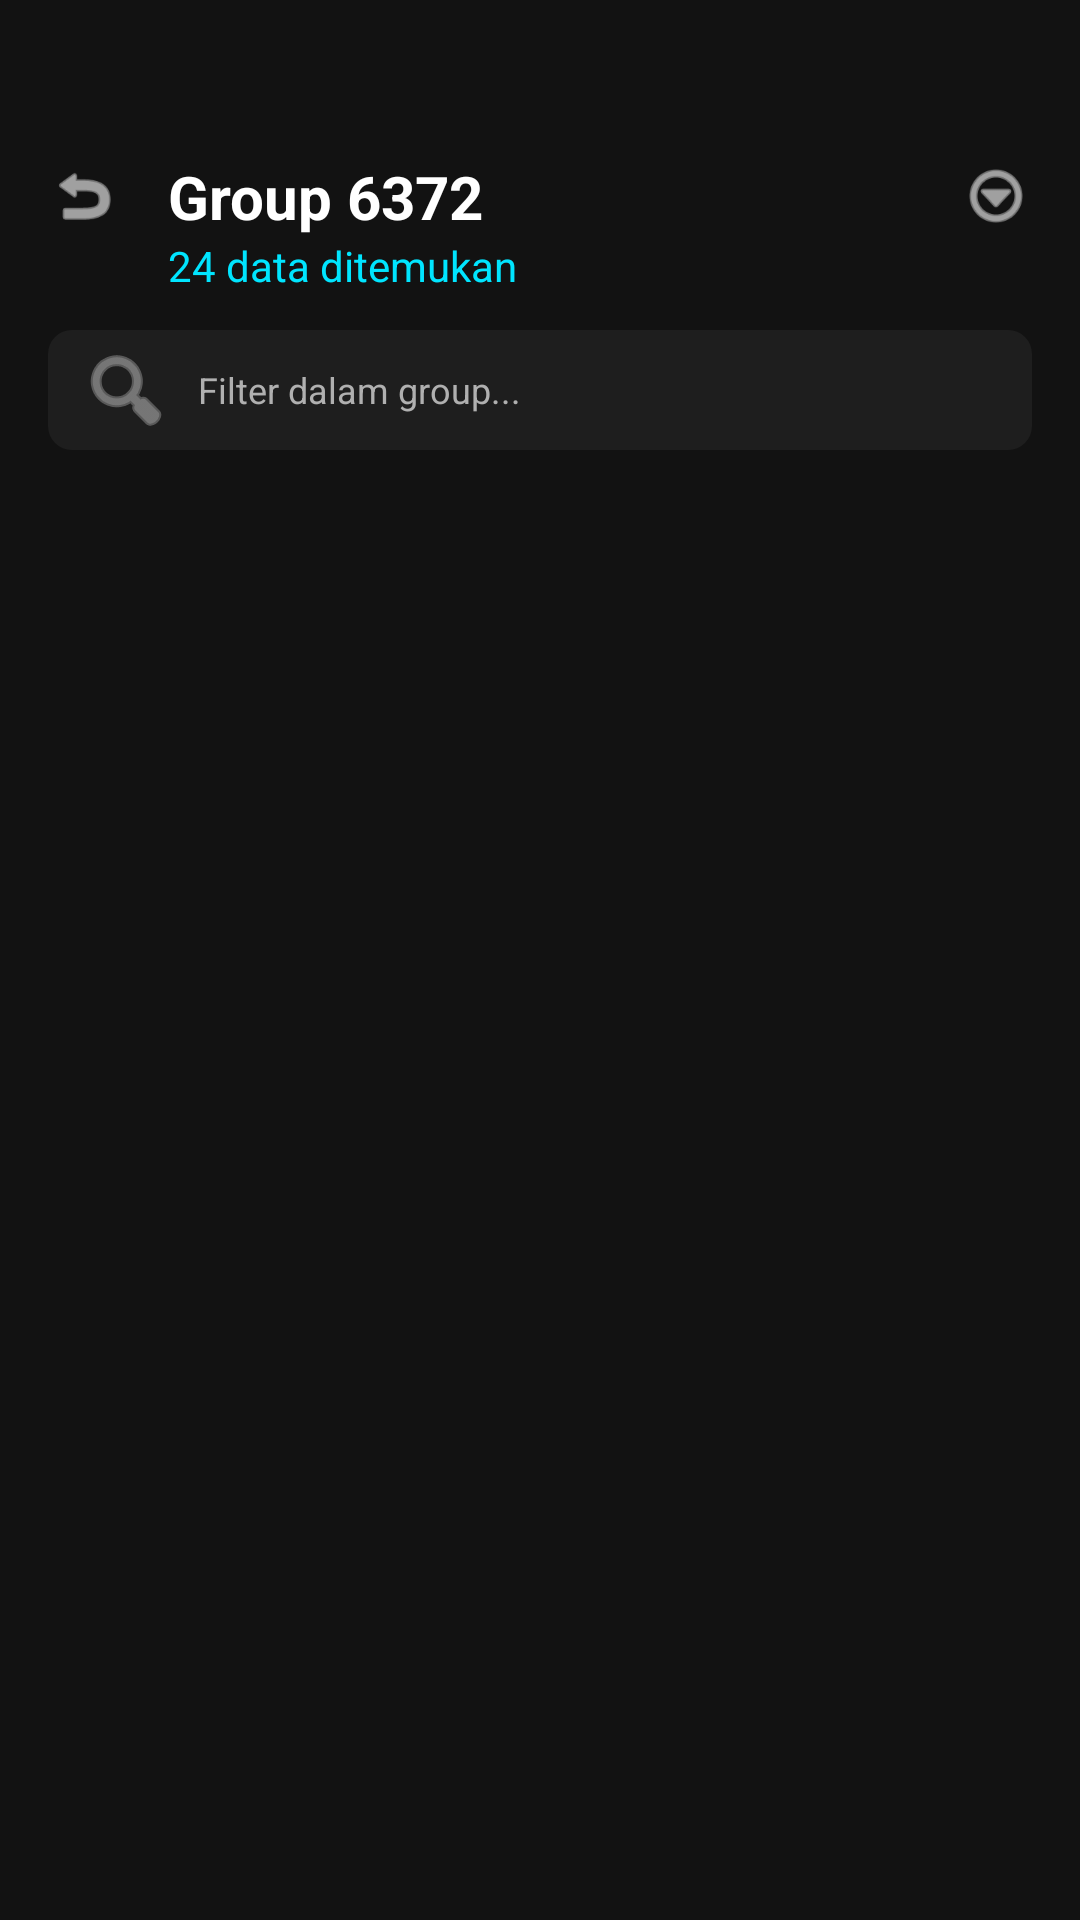

Point at icon controls on the screen. Image size 1080 x 1920, points as (x=x, y=y).
more: (x=996, y=196)
revert: (x=85, y=196)
